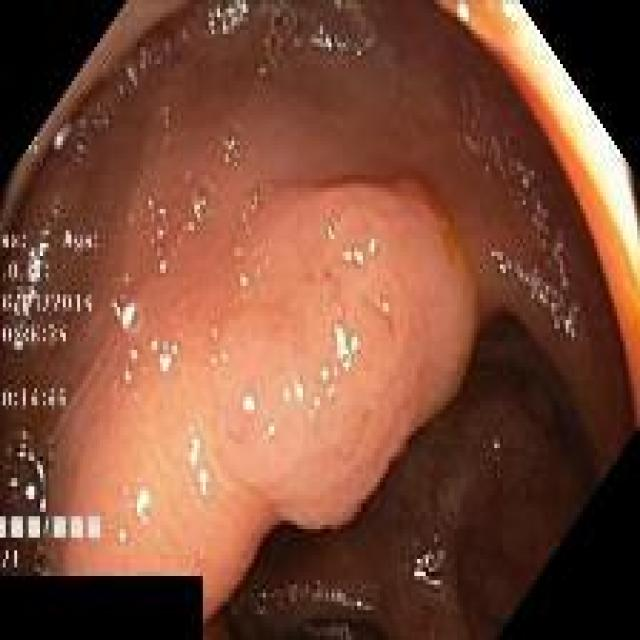Polyps: (220, 183, 478, 528)
